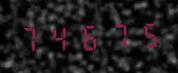five: (130, 18, 157, 50)
four: (46, 21, 73, 53)
seven: (18, 22, 45, 54), (102, 19, 129, 51)
six: (74, 20, 101, 52)
